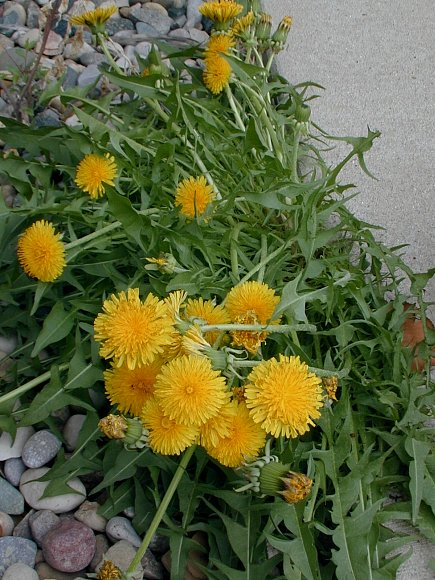dandelion: (241, 359, 329, 430), (99, 291, 166, 356), (227, 281, 283, 348), (142, 397, 198, 459), (18, 223, 70, 287), (103, 364, 163, 418), (159, 368, 223, 417), (213, 410, 260, 467), (66, 155, 121, 198), (172, 171, 218, 218), (199, 2, 245, 24), (204, 60, 233, 91)
